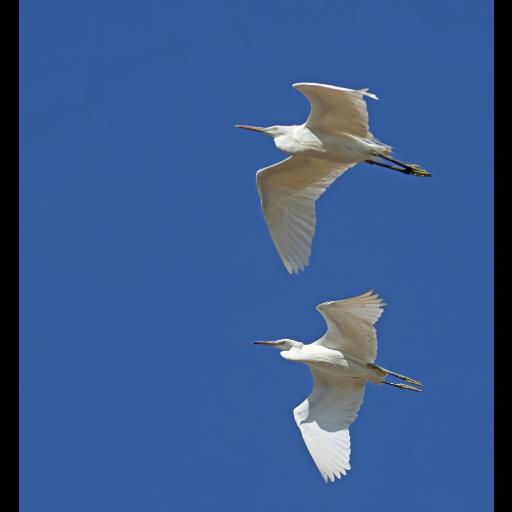chinese_egret: (232, 80, 434, 276), (248, 286, 424, 484)
